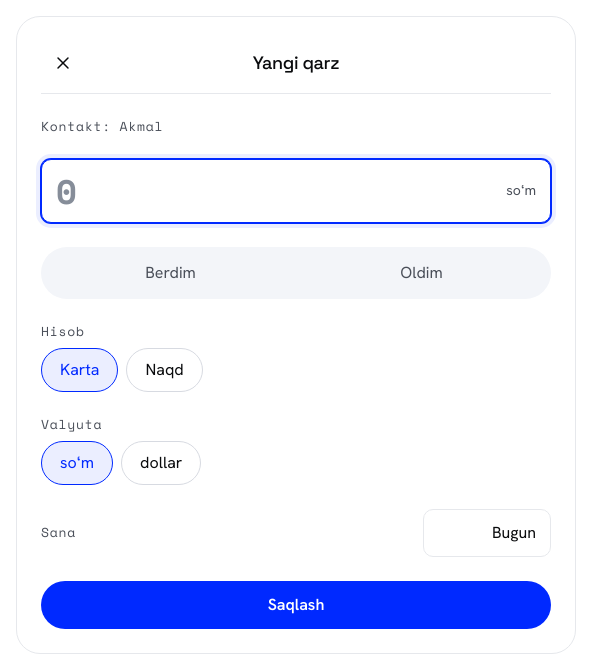
Test: saqlash (mezon 3, 4, 20, 46; 0062) › mezon 46 — yoʻnalish tanlanmasdan saqlashga urinish rad etiladi
The image size is (593, 656).
Type "1000000" into the field named "Summa" at {"x": 277, "y": 191}, box [56,160,498,222]
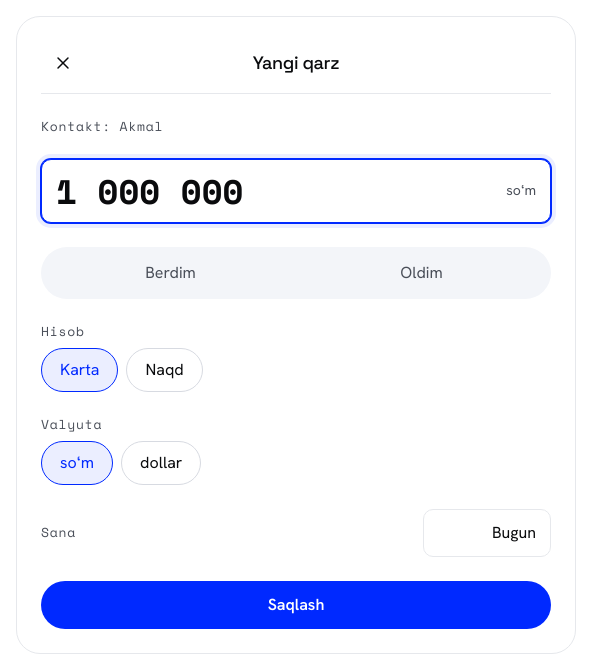
Click the button "Saqlash" at {"x": 296, "y": 605}, box [41,581,551,629]
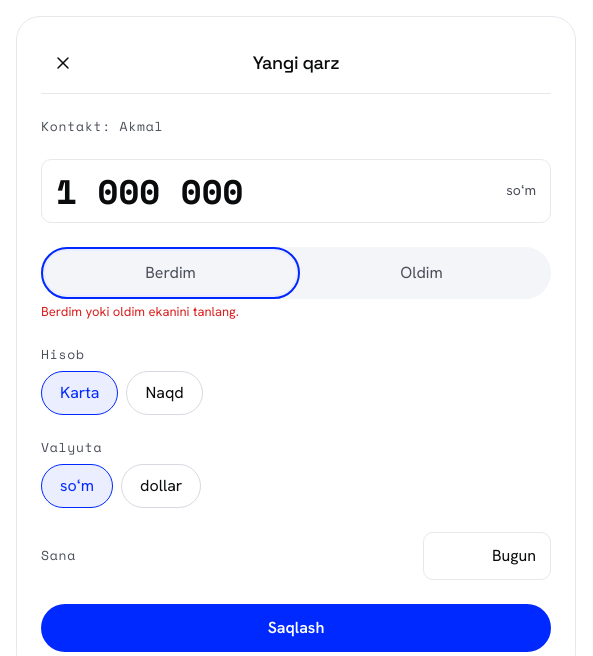
expect the text "Berdim yoki oldim ekanini tanlang." is shown: met, box [41,303,239,320]
